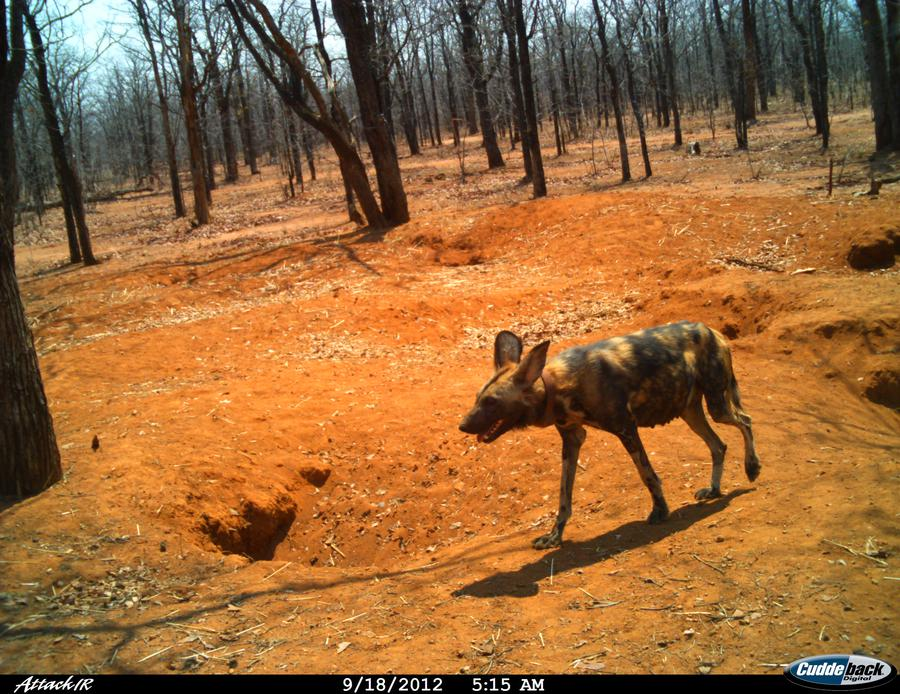wilddog: (483, 303, 756, 505)
